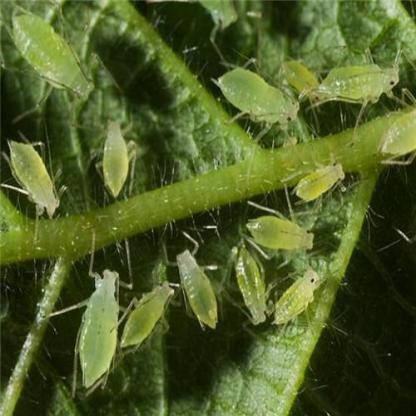aphid: (3, 6, 102, 104), (63, 244, 125, 394), (208, 65, 307, 144), (314, 42, 402, 128), (169, 225, 230, 339), (2, 127, 71, 227), (119, 272, 178, 366), (228, 237, 276, 333), (92, 111, 138, 207), (243, 206, 317, 264), (273, 262, 326, 334), (291, 154, 351, 214), (196, 0, 263, 39), (381, 101, 416, 164)
